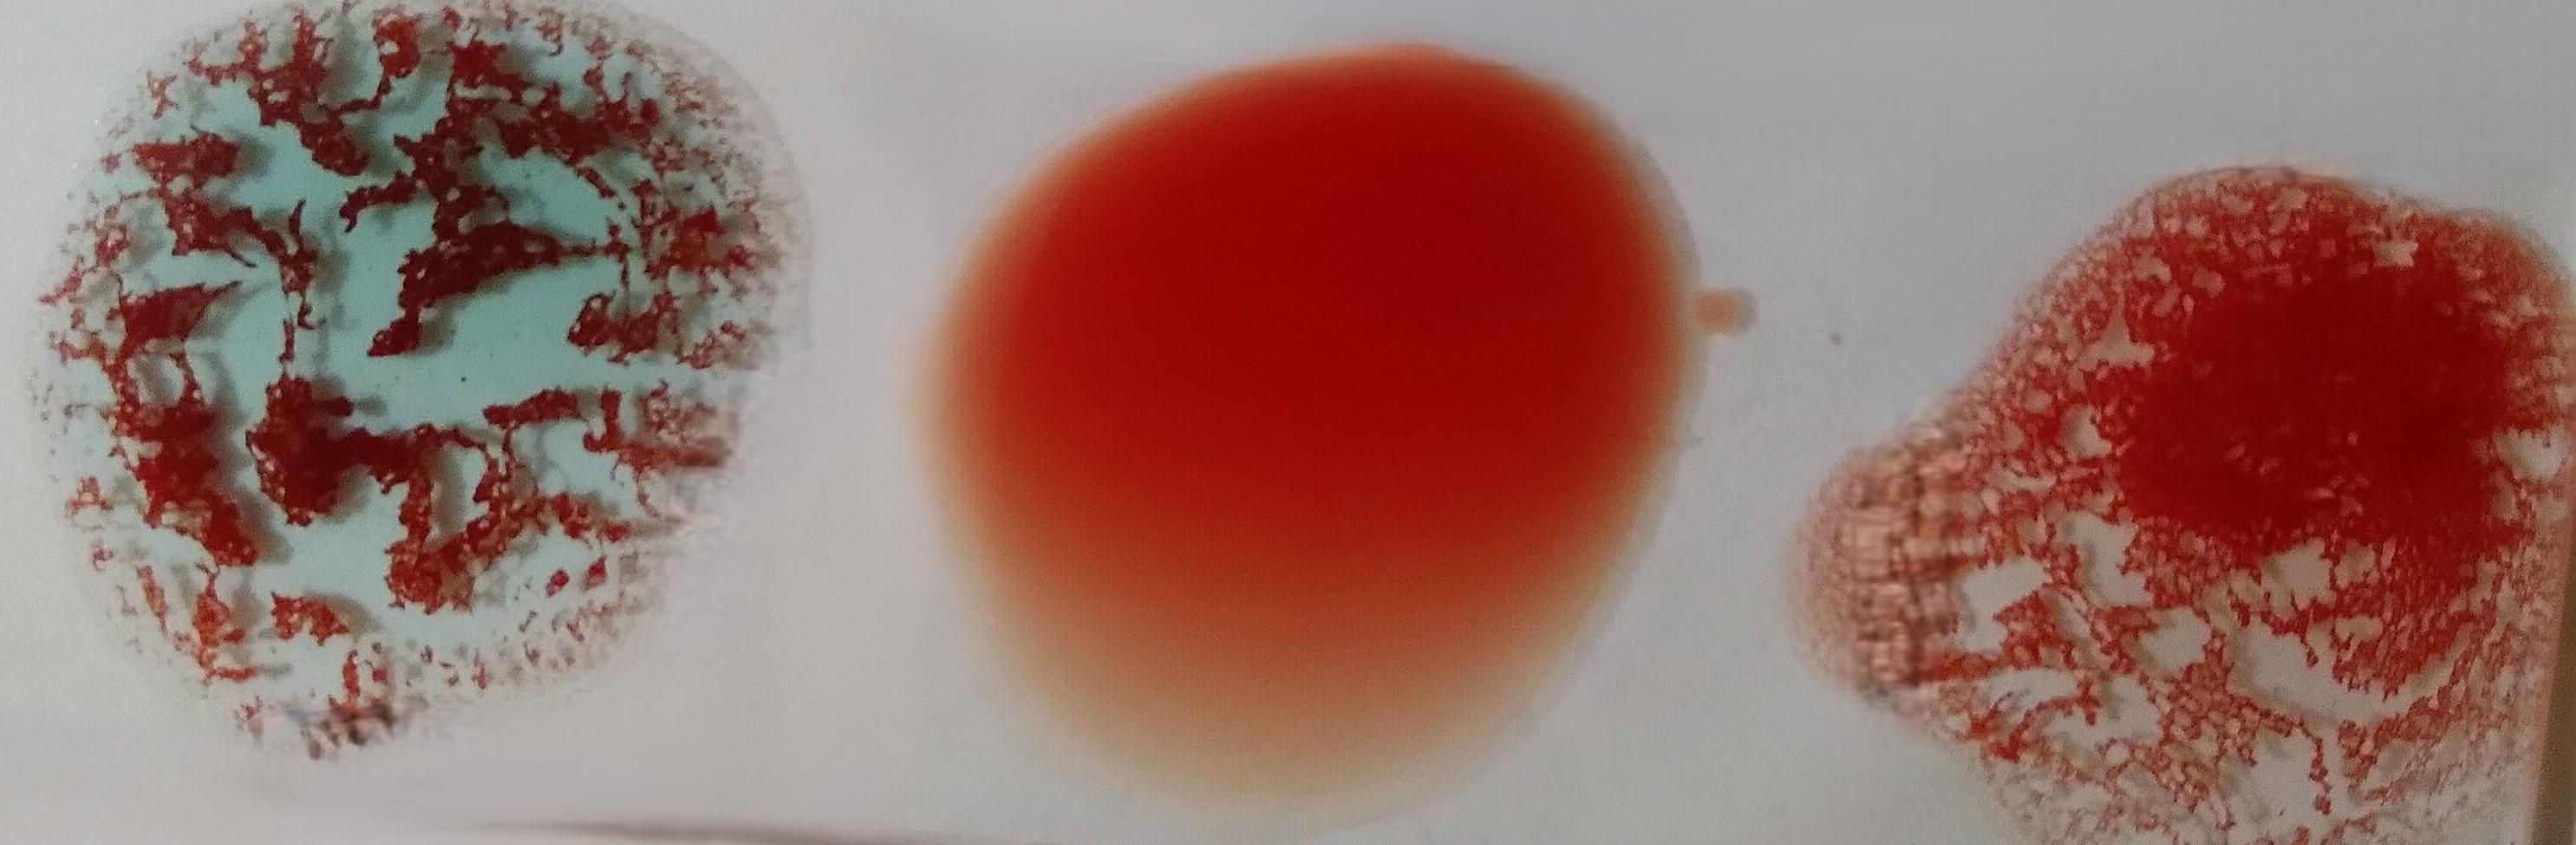A: (53, 18, 723, 746)
D: (1865, 182, 2545, 843)
